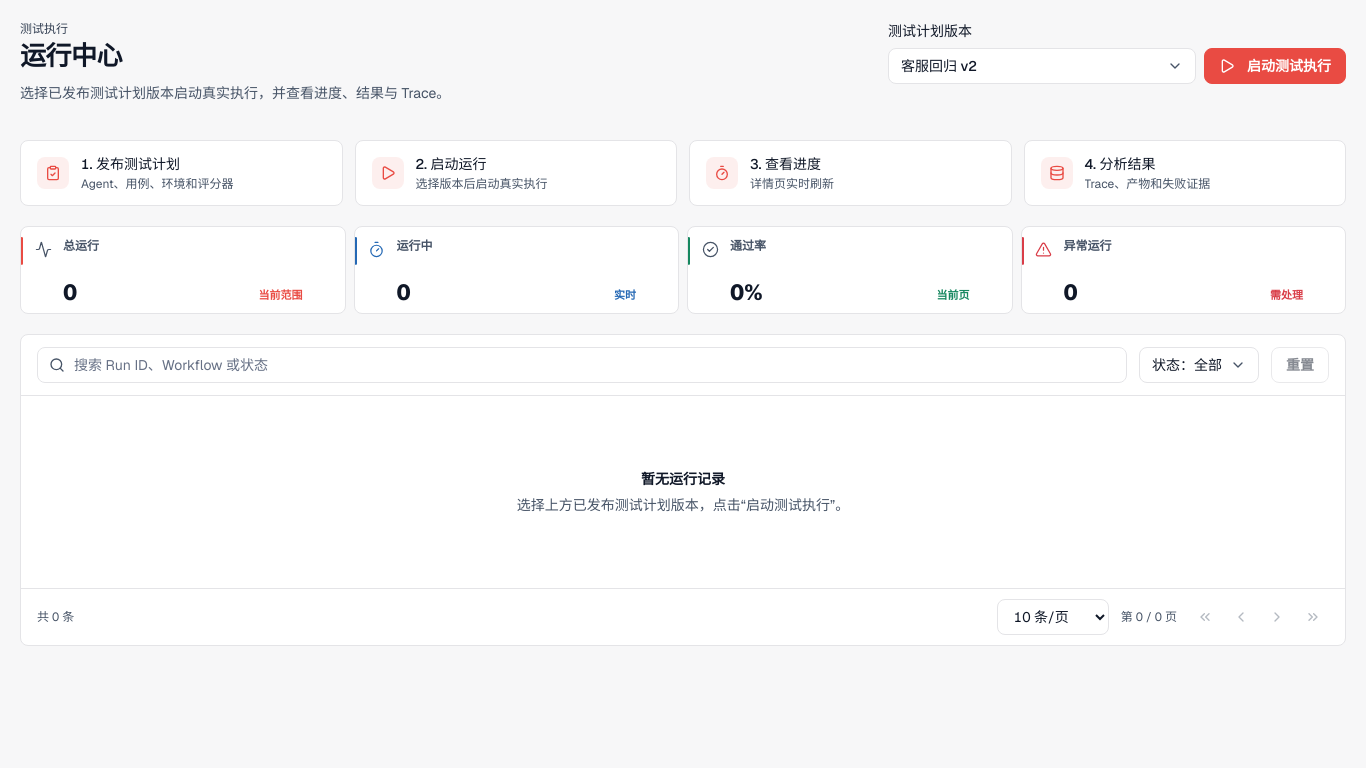
Scenario: RunCenter › shows an actionable runtime error when creating a run fails
Click the button "启动测试执行" at x=1275, y=66, box top-left (1204, 48), bottom-right (1346, 84)
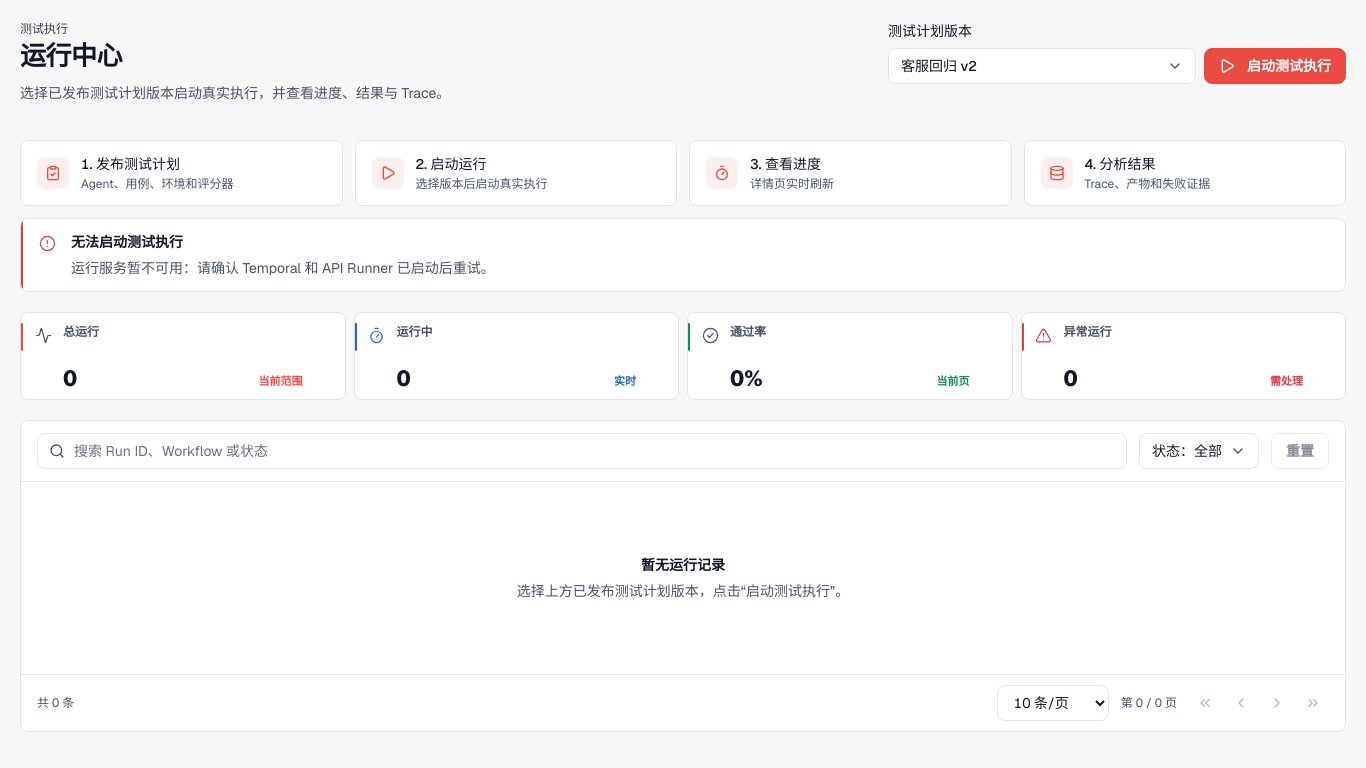
Check: the text "运行服务暂不可用：请确认 Temporal 和 API Runner 已启动后重试。" is shown, box top-left (71, 259), bottom-right (495, 277)
